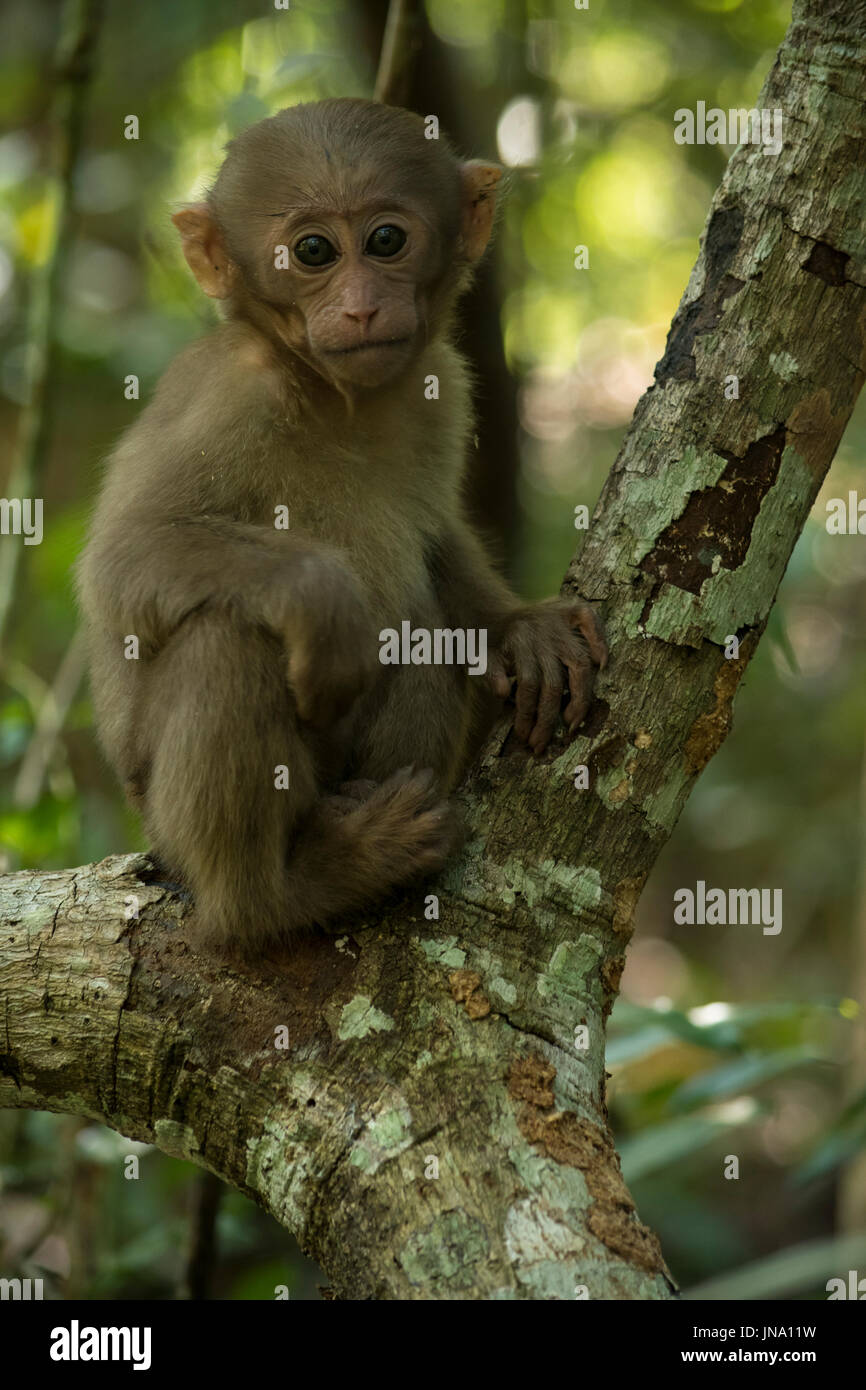monkey: (68, 75, 630, 989)
